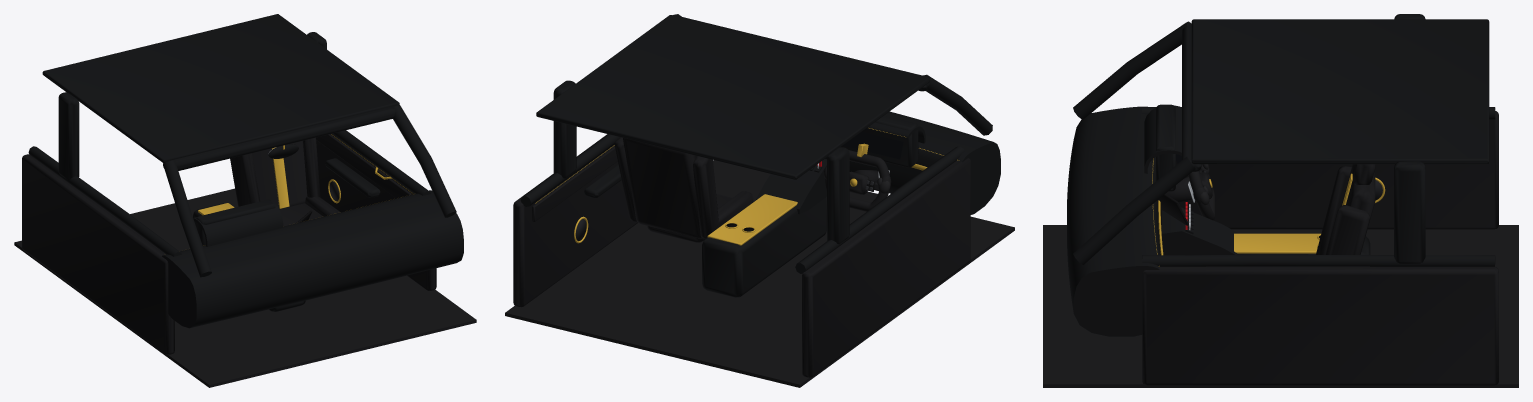
Rendered from int_devel.glb.
3 renders of one model, left to right at view 1: azimuth 30°, elevation 25°; view 2: azimuth 150°, elevation 25°; view 3: azimuth 270°, elevation 25°, orthographic. The views are drawn at different scales.
Visible parts, largest first — view 1: box.011, Dash, box.013, box, box.010, box.003, box.016, DoorTop, Hood, box.006, Pillar.001, Pillar (+9 smaller); view 2: box.011, box.013, box, box.003, box.014, box.016, Dash, DoorTop, box.006, box.015, Stack, box.017 (+12 smaller); view 3: box.011, box.003, Dash, box.013, box, DoorTop.001, box.008, Stack, Pillar.001, Pillar, box.015, box.019 (+8 smaller).
Part boxes in pixels (x1,y1,x2,y2): box.011: [42, 14, 399, 163]; Dash: [162, 190, 463, 328]; box.013: [14, 188, 476, 387]; box: [22, 154, 174, 354]; box.010: [163, 106, 395, 170]; box.003: [316, 130, 436, 290]; box.016: [252, 141, 307, 209]; DoorTop: [28, 146, 181, 256]; Hood: [193, 200, 283, 246]; box.006: [58, 92, 79, 180]; Pillar.001: [392, 105, 456, 217]; Pillar: [163, 160, 211, 277]; box.011: [536, 15, 929, 179]; box.013: [505, 160, 1014, 387]; box: [802, 158, 970, 377]; box.003: [513, 134, 637, 307]; box.014: [702, 197, 826, 297]; box.016: [623, 138, 701, 238]; Dash: [825, 111, 1000, 214]; DoorTop: [795, 146, 964, 273]; box.006: [827, 147, 849, 244]; box.015: [707, 194, 797, 245]; Stack: [756, 159, 826, 214]; box.017: [693, 156, 718, 238]; box.011: [1191, 19, 1489, 164]; box.003: [1142, 266, 1498, 385]; Dash: [1067, 106, 1160, 336]; box.013: [1043, 225, 1518, 387]; box: [1160, 111, 1498, 229]; DoorTop.001: [1142, 254, 1495, 266]; box.008: [1394, 161, 1425, 263]; Stack: [1162, 207, 1238, 255]; Pillar.001: [1073, 156, 1195, 264]; Pillar: [1073, 21, 1191, 119]; box.015: [1234, 233, 1320, 253]; box.019: [1325, 205, 1369, 254].
Bounding box in the file's own units: 1.93 × 1.22 × 2.4.
